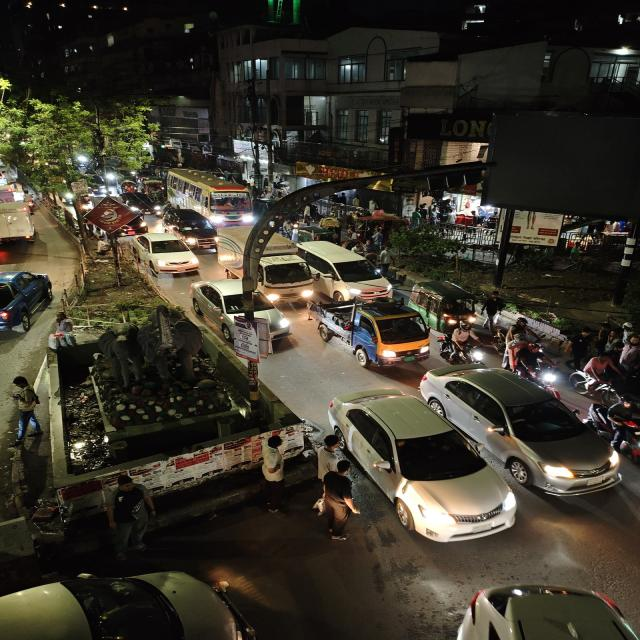bicycle: (310, 464, 362, 544)
bus: (166, 169, 257, 222), (0, 176, 40, 248)
car: (327, 385, 519, 549), (482, 363, 621, 497), (446, 581, 639, 640), (190, 280, 291, 348), (300, 239, 396, 301), (0, 268, 53, 338), (413, 280, 480, 326), (132, 232, 199, 276), (161, 208, 218, 248)
motorcycle: (592, 398, 640, 463), (514, 348, 563, 388), (438, 325, 486, 365)
pedestrian: (100, 478, 156, 552), (252, 435, 294, 512), (3, 374, 41, 447)
pickup_van: (311, 299, 435, 367)
truck: (217, 224, 316, 302)
